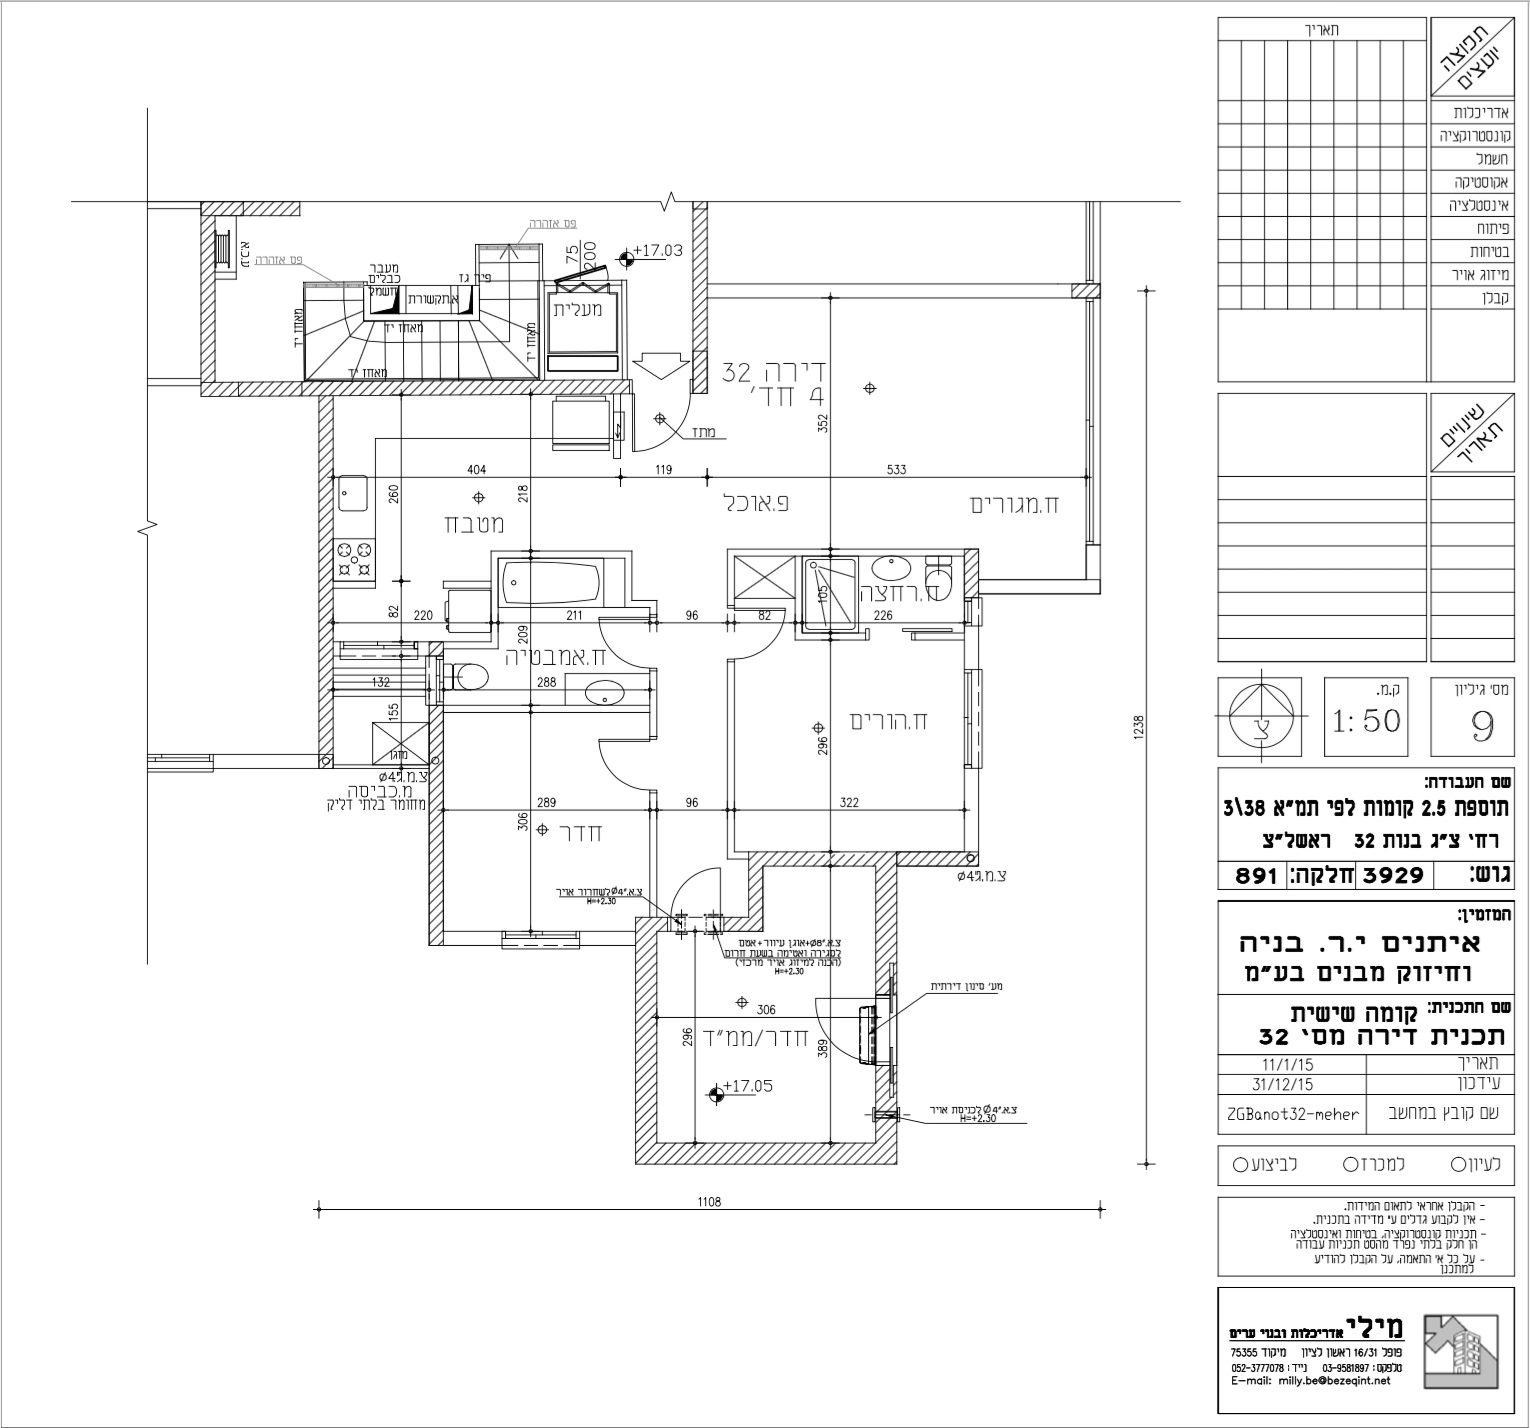door: (803, 989, 875, 1066), (628, 396, 694, 456), (585, 611, 651, 670), (666, 851, 725, 913), (591, 733, 646, 795), (734, 603, 790, 660)
wall: (317, 395, 334, 756), (636, 1143, 898, 1164), (635, 917, 658, 1143), (428, 707, 443, 948), (199, 216, 215, 397), (875, 866, 897, 994), (764, 851, 897, 866), (693, 211, 706, 349), (748, 854, 761, 931)
window: (962, 668, 985, 770), (501, 931, 581, 950)
